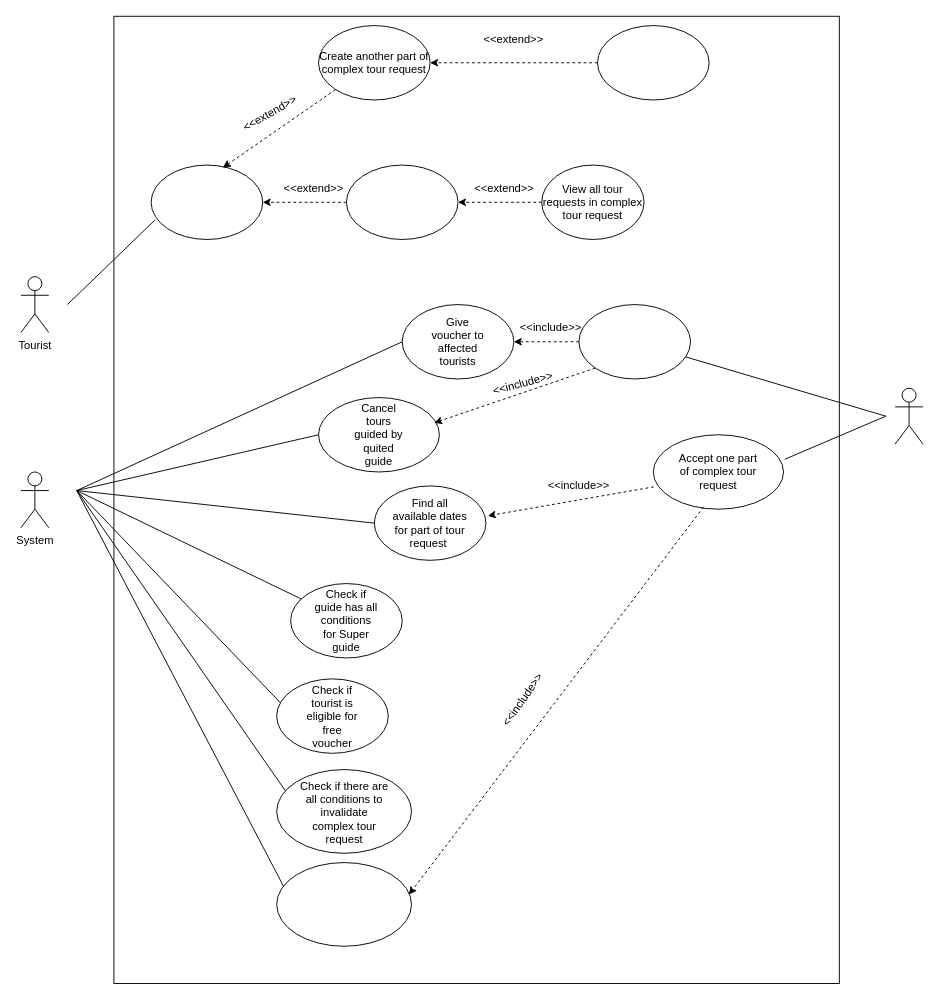
Some shapes in this 939 by 1000 pixel diagram are drawn without their labels. Each missing label, with the box of its shape:
Add another tourist: (597, 25, 709, 100)
Check if all parts of complex tour request are accepted: (276, 862, 412, 946)
Create Complex tour request: (150, 164, 263, 239)
Guide: (894, 387, 923, 444)
Quit job: (578, 304, 691, 379)
View all complex tour requests: (345, 164, 458, 239)
